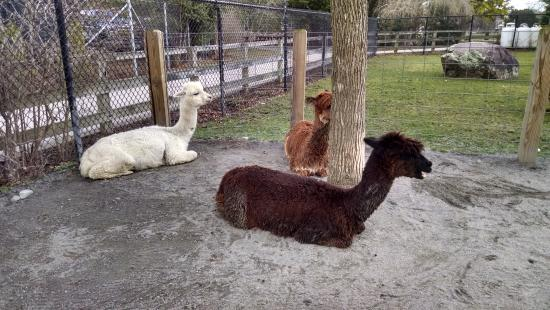alpaca: (216, 130, 432, 249), (78, 81, 215, 182), (285, 90, 332, 178)
